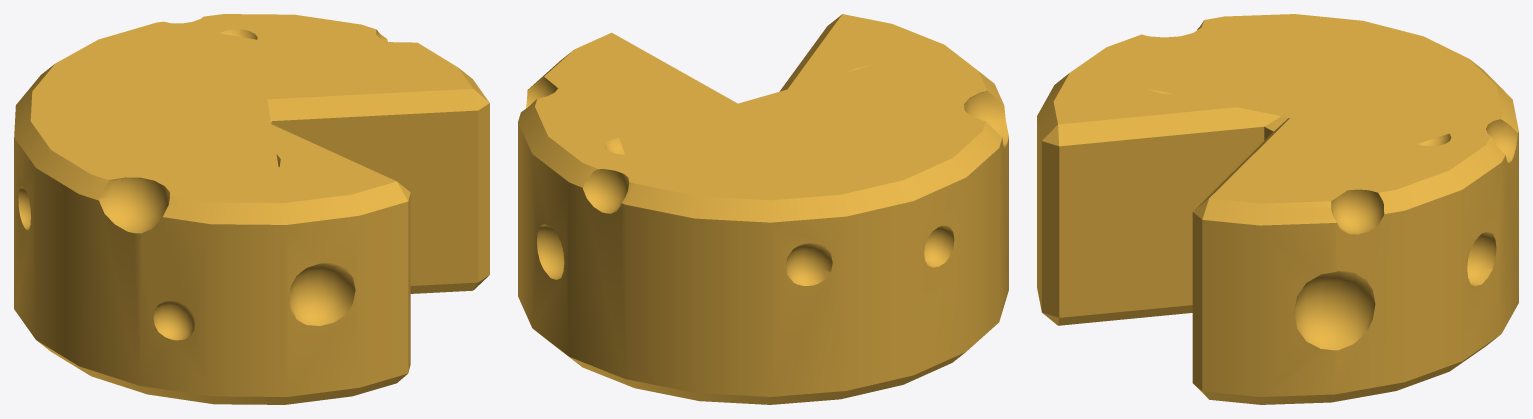
File: cheese.fbx
3 views of the same model, side by side, from view 1: azimuth 30°, elevation 25°; view 2: azimuth 150°, elevation 25°; view 3: azimuth 270°, elevation 25° (orthographic).
Visible parts, largest first — view 1: Cylinder.010; view 2: Cylinder.010; view 3: Cylinder.010.
Boxes of the visible parts, x1,y1,x2,y2 form: Cylinder.010: (14,14,489,404); Cylinder.010: (518,14,1008,404); Cylinder.010: (1037,14,1518,404).
Bounding box in the file's own units: 84.35 × 38.88 × 84.35.
